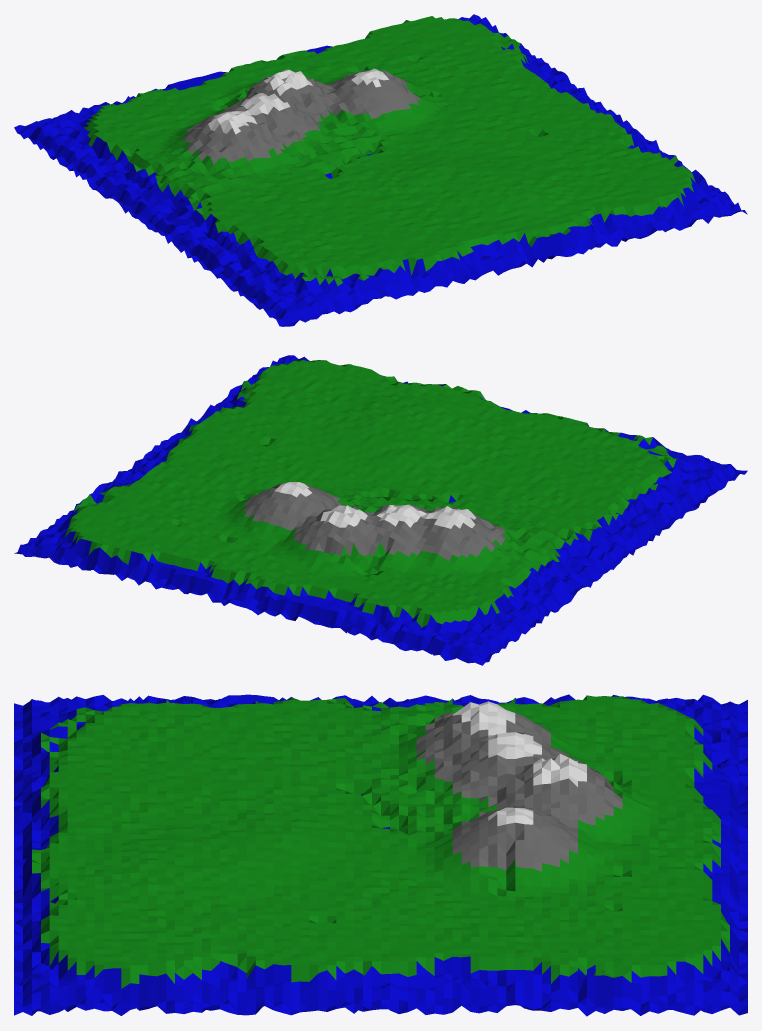
File: valley.fbx
3 views of the same model, one above another, from view 1: azimuth 30°, elevation 25°; view 2: azimuth 150°, elevation 25°; view 3: azimuth 270°, elevation 25° (orthographic). The views are drawn at different scales.
Visible parts, largest first — view 1: Plane; view 2: Plane; view 3: Plane.
Boxes of the visible parts, bbox=[...] form: Plane: bbox=[14, 14, 747, 326]; Plane: bbox=[14, 355, 747, 665]; Plane: bbox=[14, 694, 747, 1016].
Bounding box in the file's own units: 400 × 50.8 × 400.
